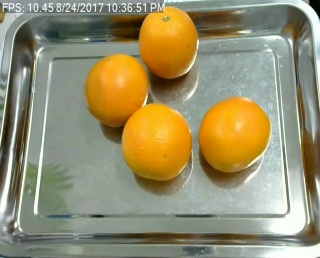Orange: (197, 97, 270, 173), (121, 103, 192, 181), (84, 54, 150, 126), (138, 6, 199, 78)
